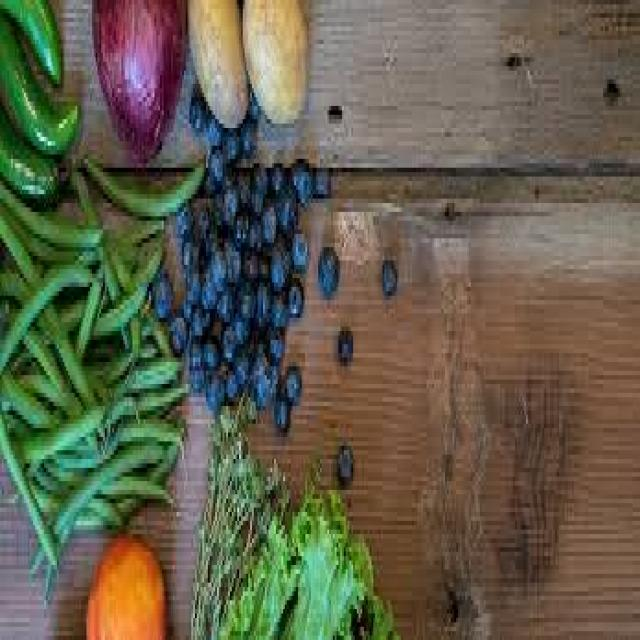biodegradable: (191, 393, 287, 636), (29, 437, 164, 574), (0, 208, 94, 398), (285, 486, 392, 636), (87, 0, 182, 159), (42, 424, 182, 525), (0, 13, 75, 158), (217, 503, 296, 636), (0, 256, 92, 358), (0, 406, 57, 569), (83, 534, 164, 636), (81, 150, 202, 216), (184, 0, 246, 128), (9, 309, 77, 424), (241, 0, 305, 119), (105, 234, 167, 344), (28, 468, 144, 521), (9, 402, 103, 464), (0, 110, 59, 203), (2, 362, 70, 432), (0, 0, 60, 79), (57, 464, 175, 503), (37, 336, 132, 380), (94, 265, 151, 327), (96, 256, 136, 344), (41, 490, 74, 596), (48, 433, 121, 472), (114, 411, 182, 450), (129, 344, 189, 380), (246, 340, 274, 406), (136, 380, 188, 406), (151, 265, 169, 327), (318, 243, 337, 300), (221, 221, 239, 278), (250, 154, 267, 212), (276, 185, 296, 234), (217, 313, 237, 362), (195, 207, 215, 256), (269, 243, 291, 287), (291, 155, 311, 203), (208, 243, 226, 296), (197, 265, 217, 309), (180, 225, 197, 274), (333, 441, 353, 481), (379, 252, 397, 296), (234, 274, 252, 318), (190, 291, 212, 327), (215, 278, 234, 318), (254, 274, 268, 327), (201, 335, 221, 371), (269, 287, 285, 331), (219, 181, 235, 225), (281, 362, 298, 402), (204, 141, 221, 181), (204, 371, 221, 410), (285, 274, 300, 318), (261, 199, 276, 243), (289, 225, 305, 265), (186, 88, 202, 128), (169, 313, 184, 353), (173, 194, 189, 230), (234, 159, 247, 203), (237, 111, 250, 155), (230, 314, 248, 345), (232, 208, 246, 247), (204, 110, 219, 146), (206, 185, 221, 221), (239, 239, 256, 270), (337, 322, 350, 362), (276, 389, 289, 428), (311, 164, 327, 195), (265, 327, 281, 358), (230, 349, 246, 380), (219, 128, 235, 159), (243, 84, 256, 119), (269, 159, 283, 190), (186, 331, 199, 362), (223, 367, 236, 398), (184, 274, 199, 300), (245, 216, 258, 243), (179, 292, 190, 323), (190, 362, 203, 388), (221, 159, 232, 181)
